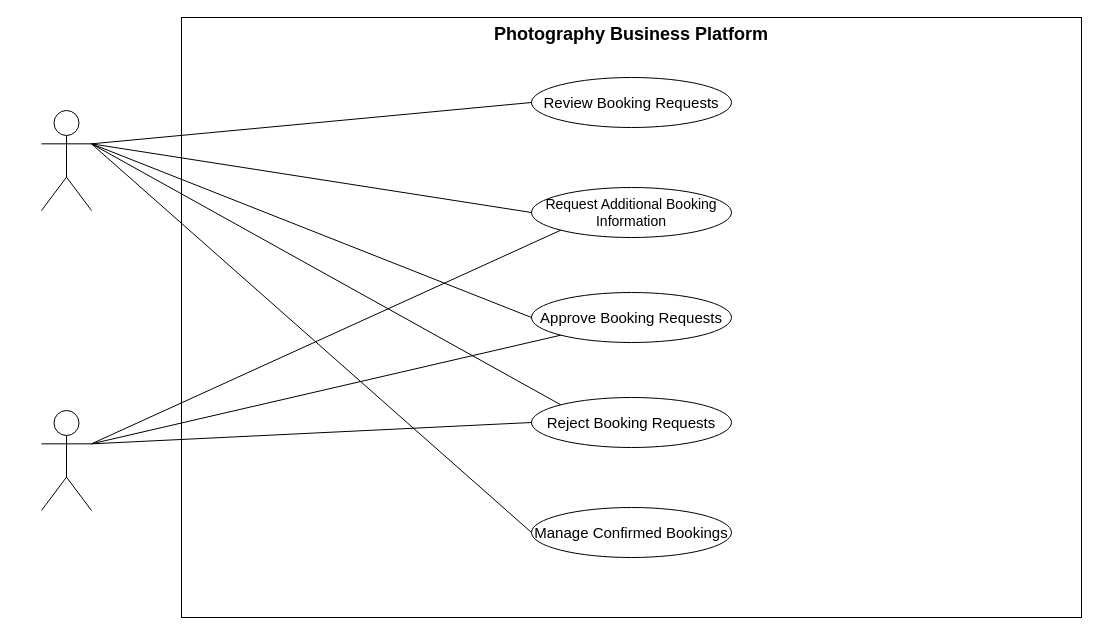
Some shapes in this 1099 by 635 pixel diagram are drawn without their labels. The shapes that lost their labels are listed below. From the top down, each one's centre as x and y in pixels, then its label:
the point at 66,160: Photographer
the point at 66,460: Email Service
